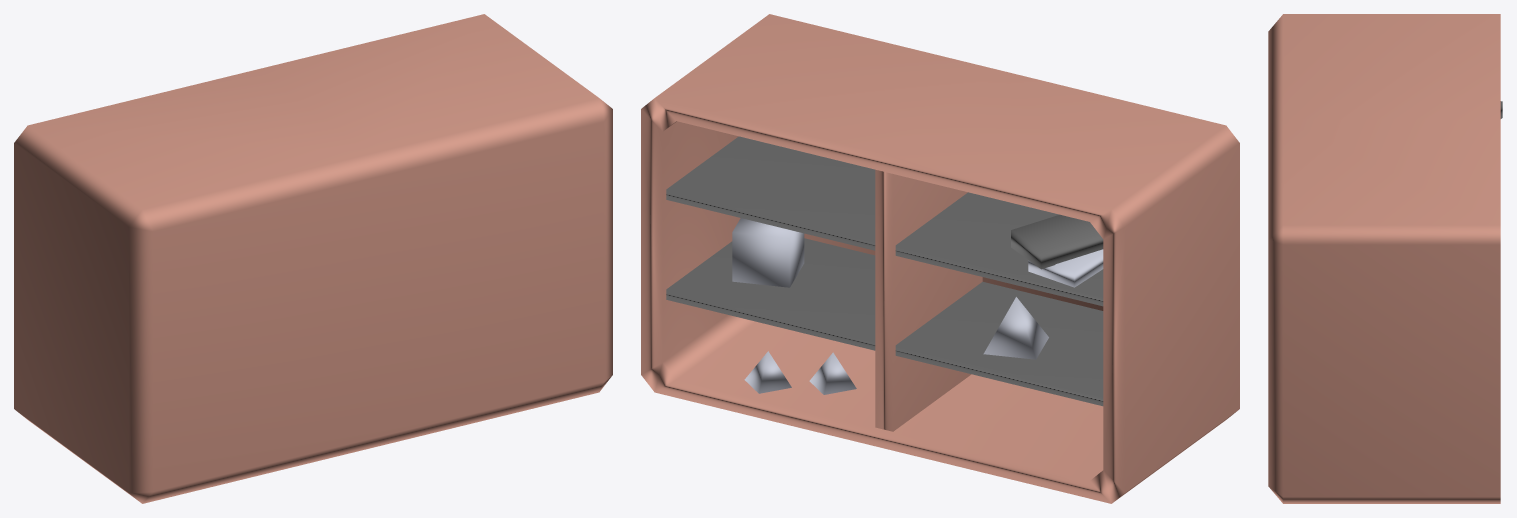
Rendered from shelf_01.glb.
The picture shows the model from 3 angles, left to right: view 1: azimuth 30°, elevation 25°; view 2: azimuth 150°, elevation 25°; view 3: azimuth 270°, elevation 25°; orthographic projection. The views are drawn at different scales.
Visible parts, largest first — view 1: mesh_shelf_01; view 2: mesh_shelf_01; view 3: mesh_shelf_01.
Part boxes in pixels (x1,y1,x2,y2): mesh_shelf_01: (14,14,612,503); mesh_shelf_01: (641,14,1239,503); mesh_shelf_01: (1268,14,1502,503).
Size of the model in its own units: 1.66 by 0.9656 by 0.7352.
